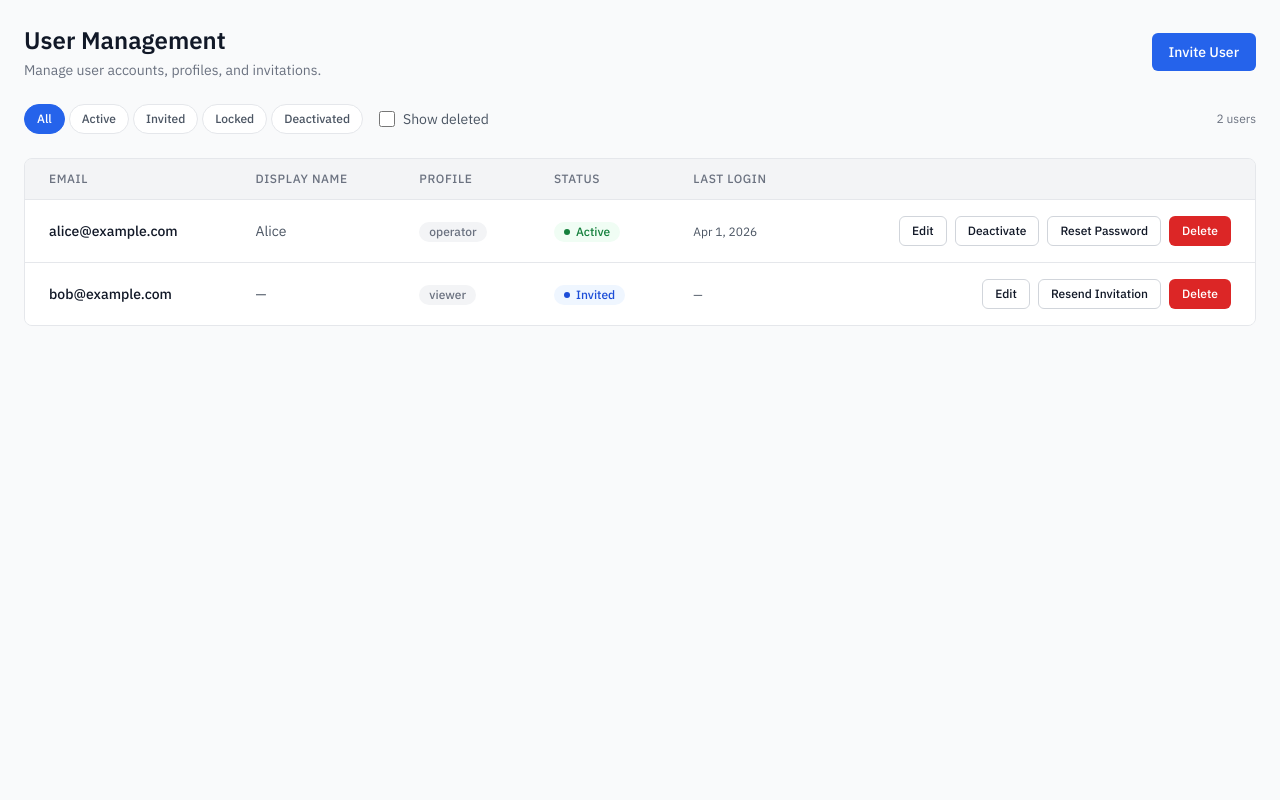
AdminUsersPage › surfaces 409 error in the confirm dialog
Expected: the text "alice@example.com" is shown, [49,222,178,240]
Click the inline Deactivate button on alice's row
Click the button "Deactivate" at coordinates (997, 231), box [955,216,1039,246]
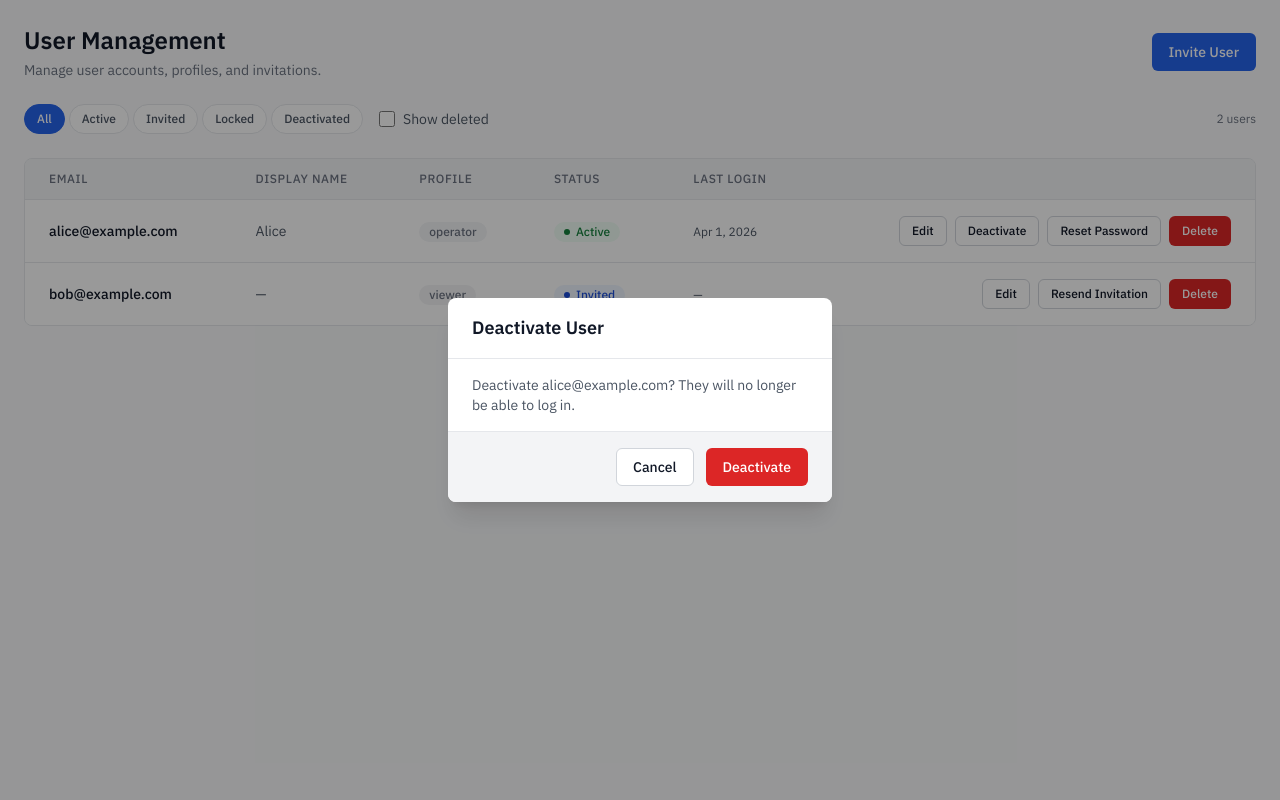
Expected: the heading "Deactivate User" is shown, [472,316,604,339]
Confirm in the modal footer
Click the button "Deactivate" at coordinates (757, 467), box [706,448,808,486]
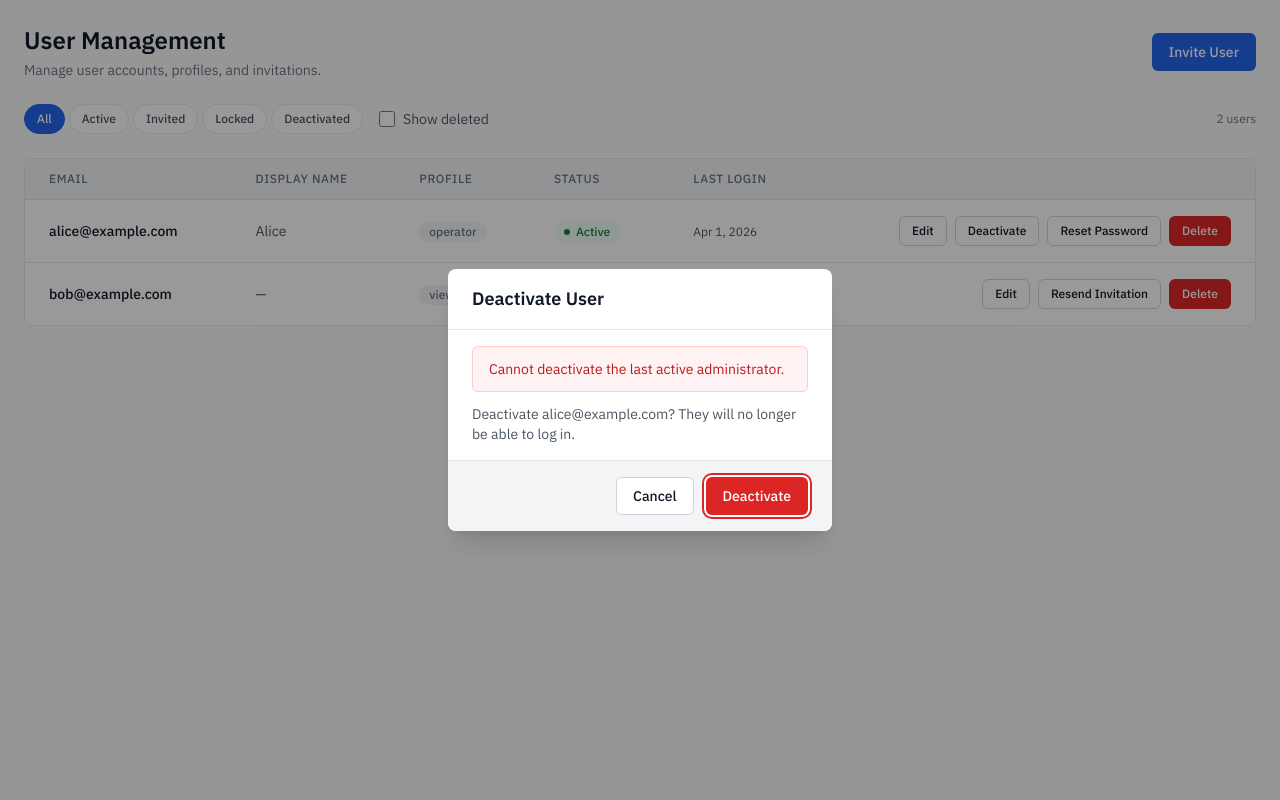
Expected: the text "Cannot deactivate the last active administrator." is shown, [472,346,808,392]
